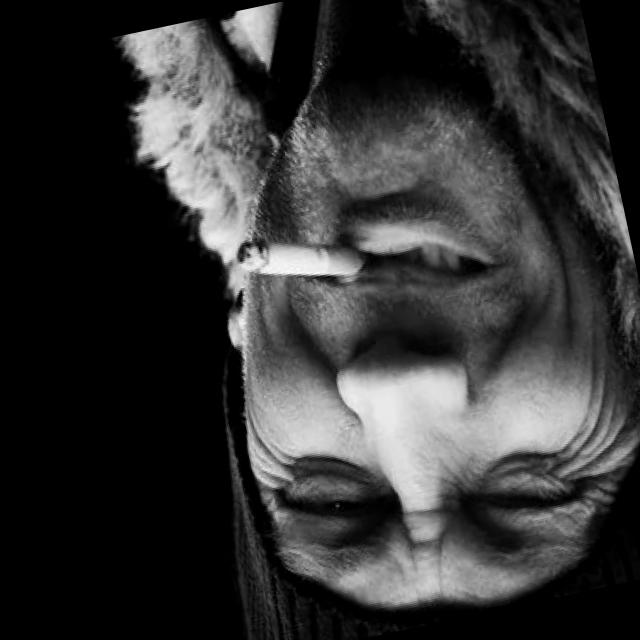cigarette: (232, 211, 368, 309)
